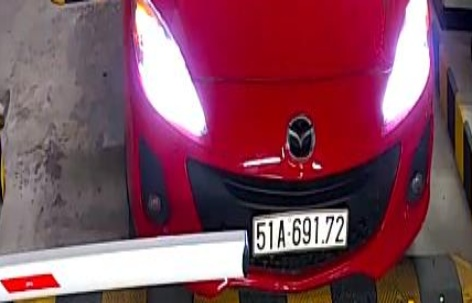plate: (249, 210, 353, 257)
